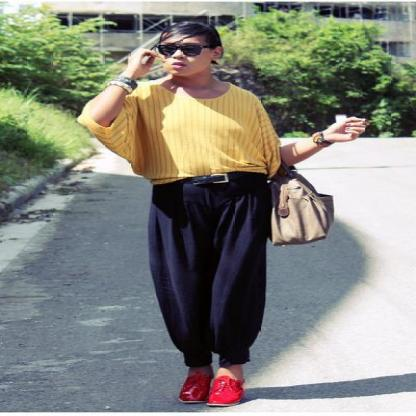bag: (272, 179, 342, 240)
jacket: (80, 79, 286, 184)
pants: (148, 171, 280, 368)
shoe: (179, 365, 243, 407)
sunglass: (151, 36, 194, 56)
